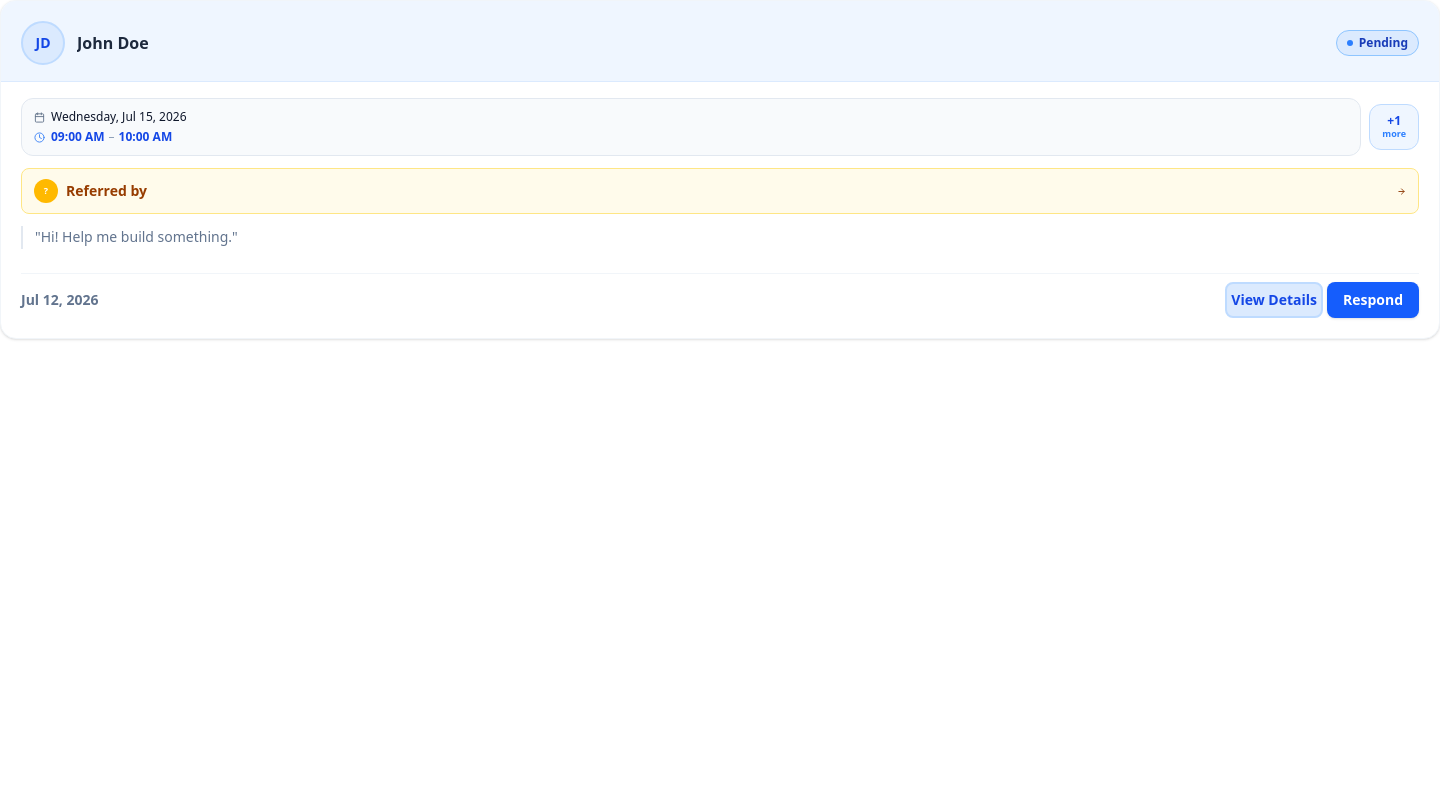
Test: RequestCard Component › covers click on extra slots and referredBy details flows, and missing name fallback (lines 141, 360, 377, 478)
# Click the '+1 more' button (line 360)
Click the button "+1more": (1394, 127) 1369,104 -> 1419,150
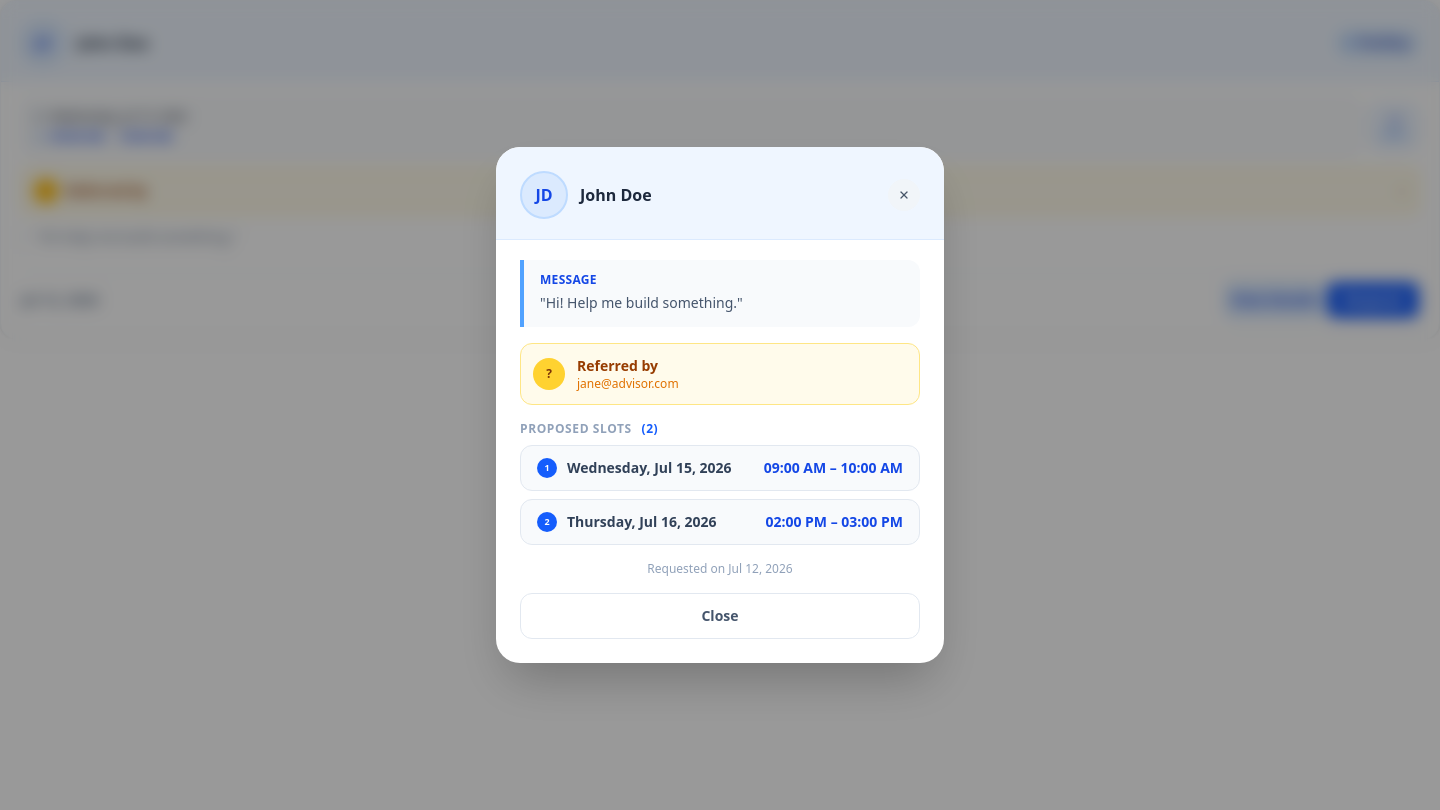
expect the 1st text "?" is shown: met, box 34,179 -> 58,203
# Close SlotsModal
Click the button "Close": (720, 616) 520,593 -> 920,639
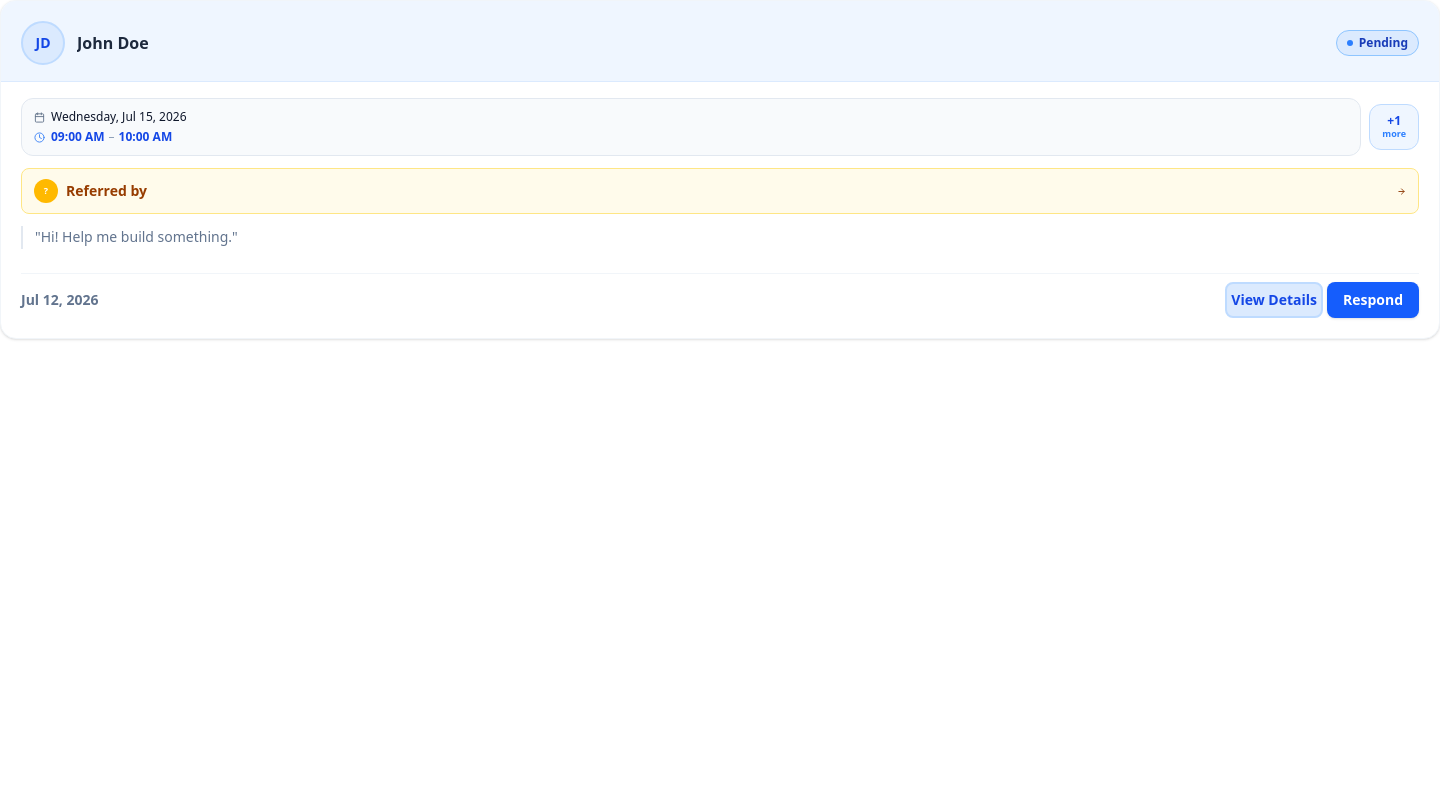
# Click referredBy banner button (line 377)
Click the button "? Referred by": (106, 190) 21,168 -> 1419,214
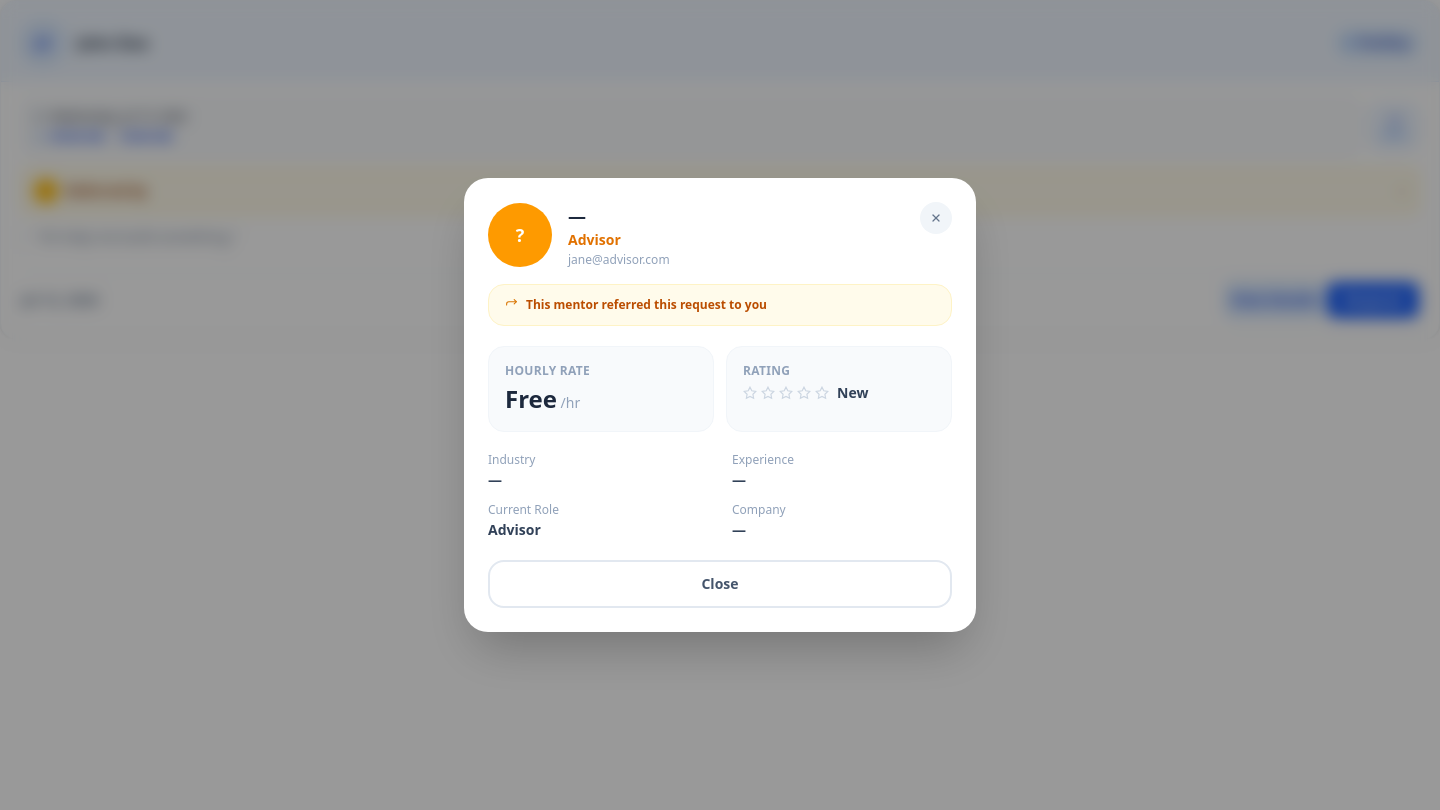
expect the text "This mentor referred this request to you" is shown: met, box 526,297 -> 767,313
# Close ReferredByProfileModal (covers line 478 onClose logic)
Click the button "Close": (720, 584) 488,560 -> 952,608
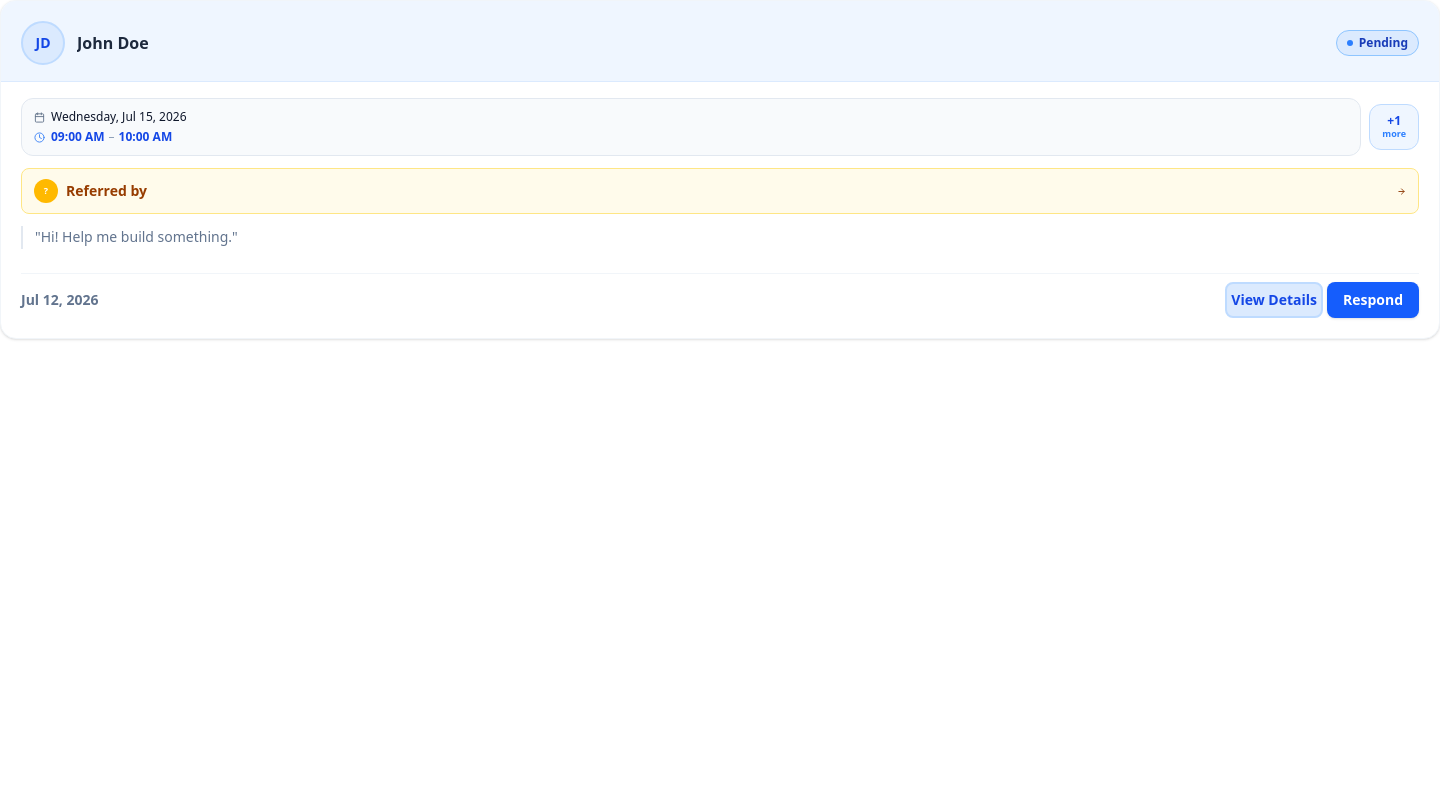
expect the text "This mentor referred this request to you" is gone: met
